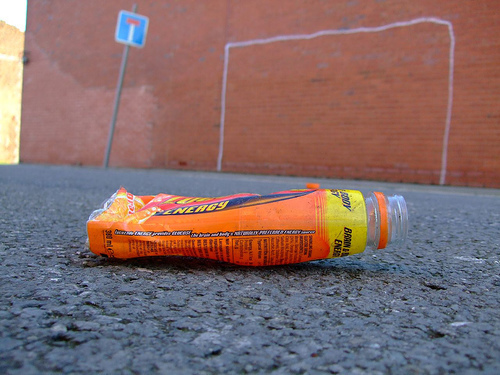litter: (83, 185, 409, 270)
